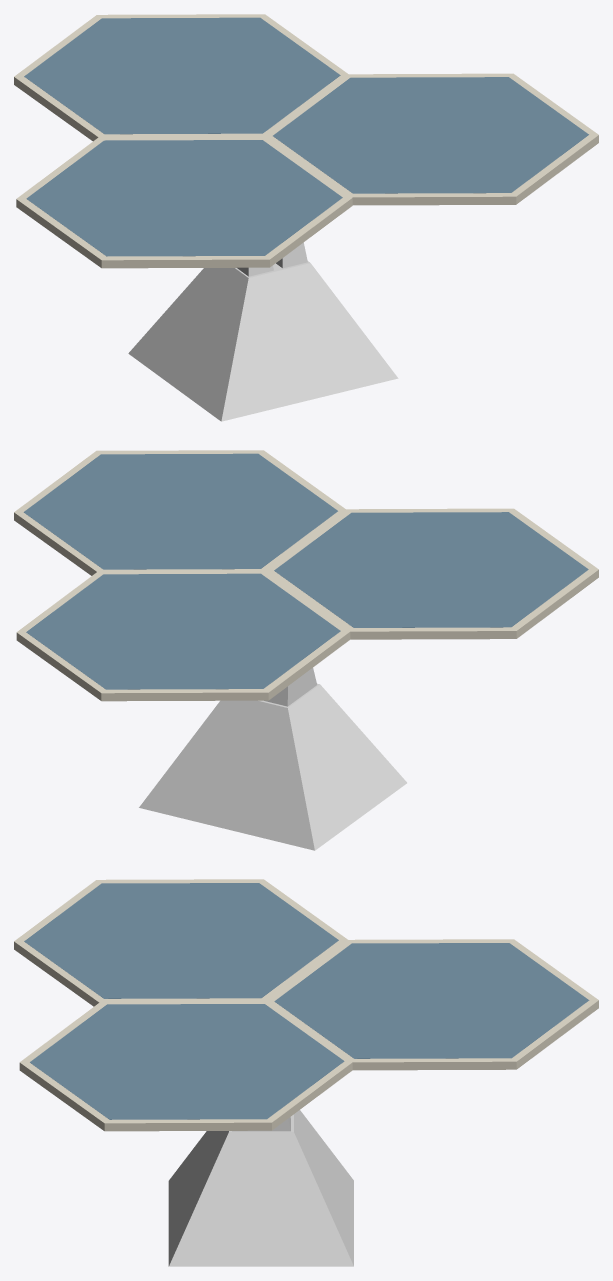
The model's file is a solar panel2.fbx.
The picture shows the model from 3 angles, top to bottom: view 1: azimuth 30°, elevation 25°; view 2: azimuth 150°, elevation 25°; view 3: azimuth 270°, elevation 25°; orthographic projection.
Visible parts, largest first — view 1: Cube_2, Cylinder_1; view 2: Cube_2, Cylinder_1; view 3: Cube_2, Cylinder_1.
Part boxes in pixels (bbox=[...]): Cube_2: bbox=[14, 14, 598, 268]; Cylinder_1: bbox=[128, 242, 398, 421]; Cube_2: bbox=[14, 450, 598, 701]; Cylinder_1: bbox=[139, 668, 406, 850]; Cube_2: bbox=[14, 879, 598, 1131]; Cylinder_1: bbox=[168, 1110, 353, 1266].
Bounding box in the file's own units: 183 × 78.81 × 186.
